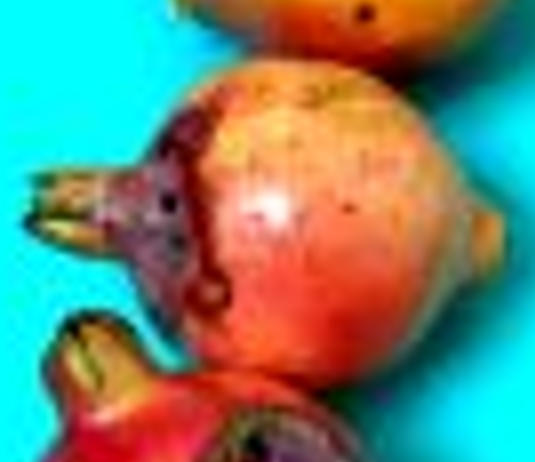pomegranate_C: (23, 56, 509, 391)
